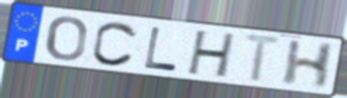C: (90, 19, 140, 68)
H: (279, 39, 338, 91), (185, 29, 239, 80)
L: (142, 25, 179, 73)
O: (45, 15, 89, 62)
T: (241, 32, 286, 85)
